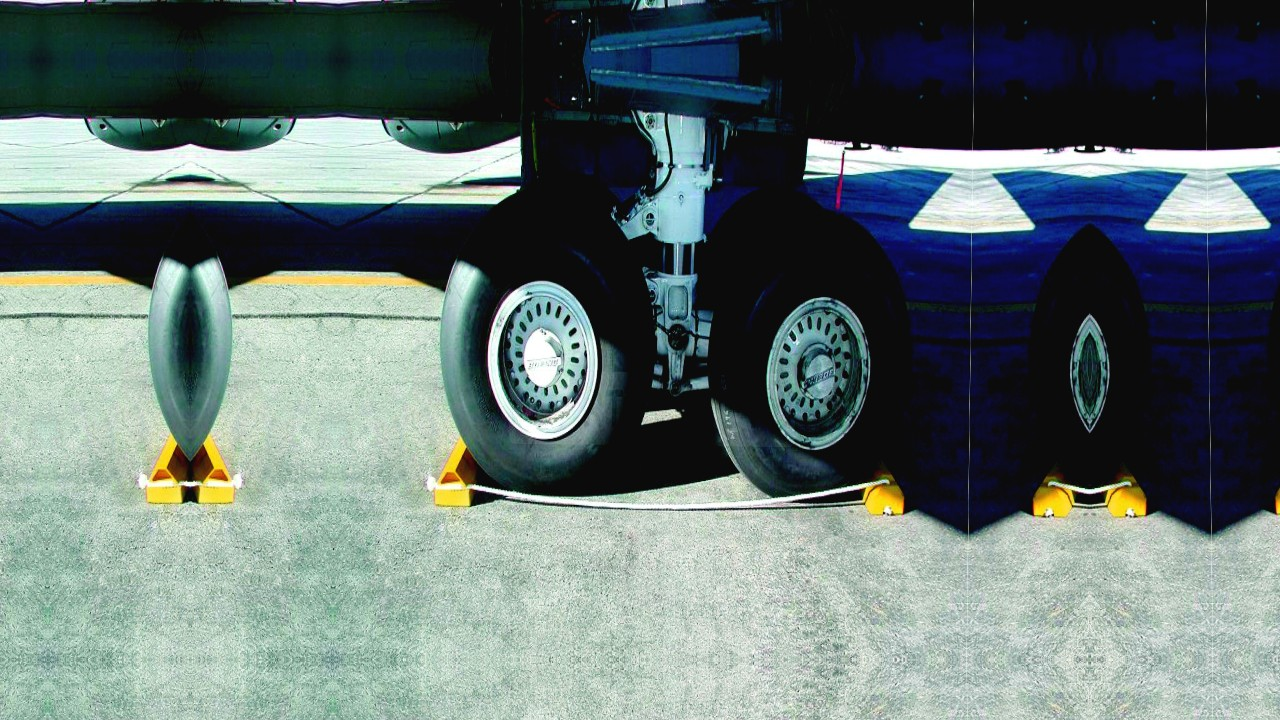chock: (434, 413, 487, 508), (855, 435, 909, 519), (1029, 437, 1083, 521), (1097, 437, 1151, 521), (145, 410, 190, 505), (190, 410, 235, 505), (1271, 435, 1280, 519)
wheel: (438, 178, 652, 490), (704, 203, 911, 495), (696, 185, 822, 312), (529, 170, 627, 214)
